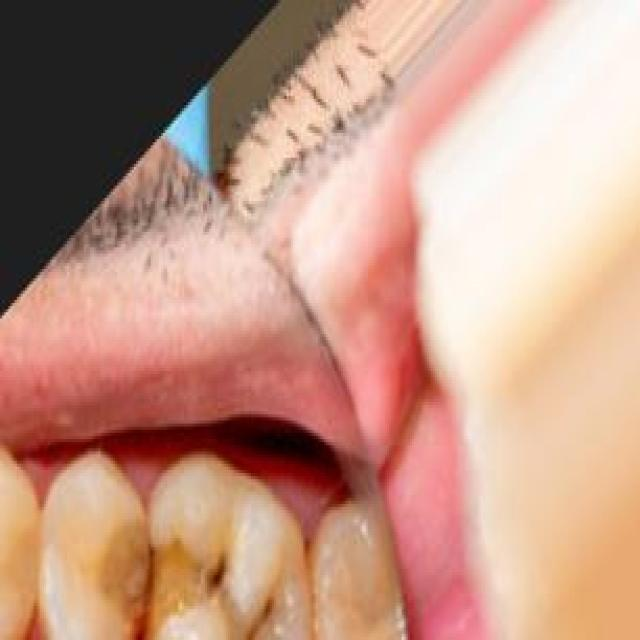caries: (84, 470, 228, 640), (234, 562, 296, 639)
